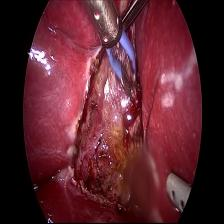Bipolar: (77, 0, 148, 109)
Grasper: (118, 0, 153, 39)
Irrigator: (160, 163, 192, 220)
